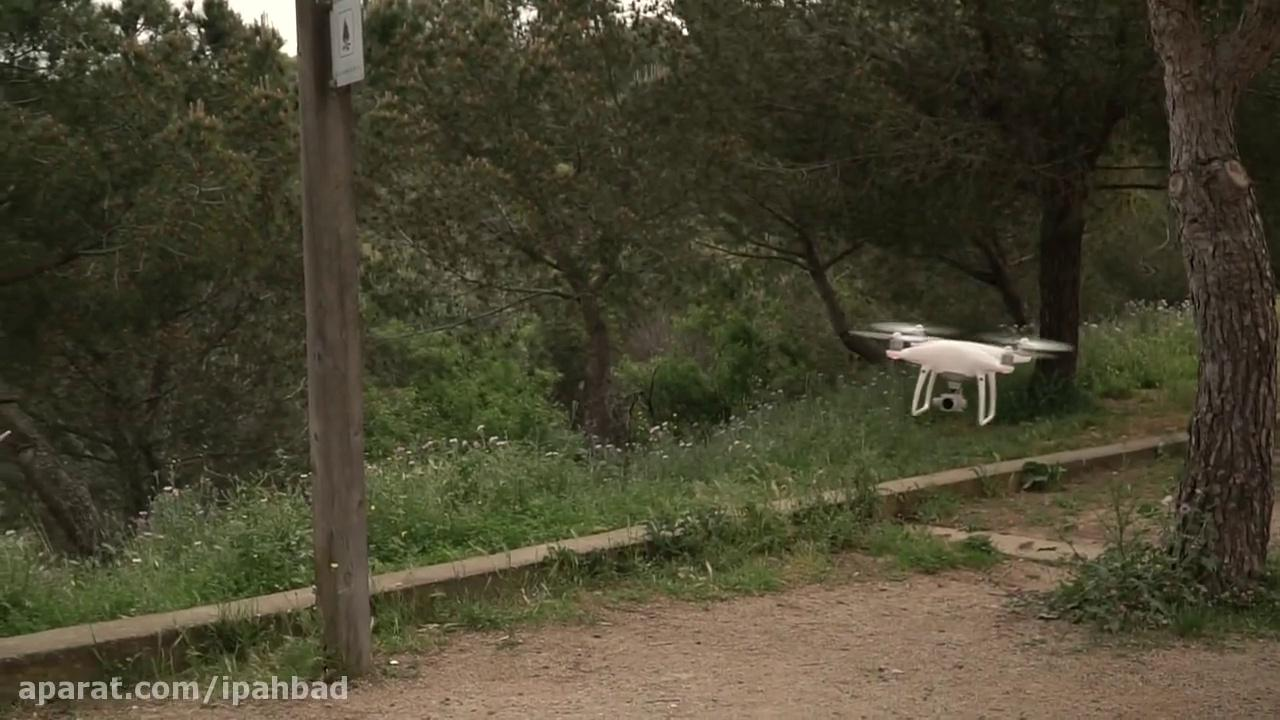drone: (847, 319, 1076, 425)
